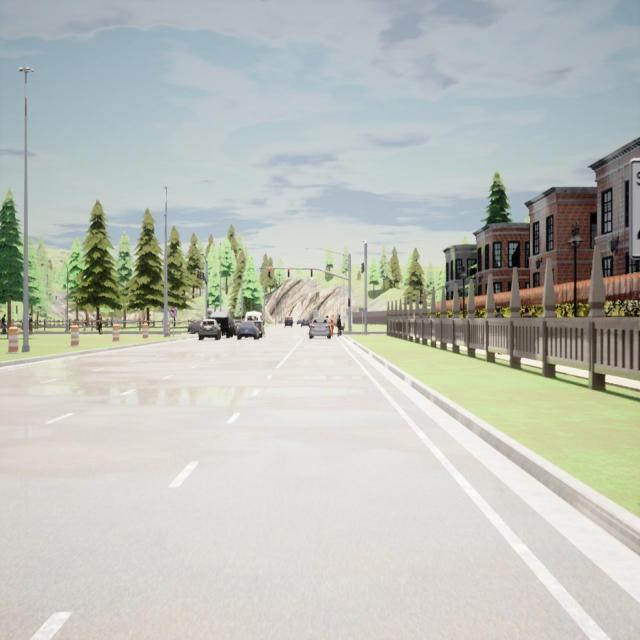Pedestrian: (27, 311, 35, 336), (0, 313, 8, 337), (97, 315, 103, 335), (329, 315, 334, 337), (337, 315, 341, 337)
Traffic_Signs: (629, 158, 640, 258), (170, 308, 177, 316), (359, 308, 367, 312)
Vehicle: (209, 313, 236, 339), (243, 312, 265, 336), (309, 318, 332, 339), (199, 320, 221, 340), (238, 321, 260, 340), (188, 321, 200, 334), (284, 317, 294, 328), (300, 318, 310, 328), (296, 320, 300, 326)
traffic_light: (361, 263, 364, 273), (287, 269, 290, 277), (310, 269, 313, 277), (202, 273, 205, 280), (348, 298, 350, 307), (268, 268, 270, 277), (200, 272, 202, 280), (198, 271, 199, 279)
